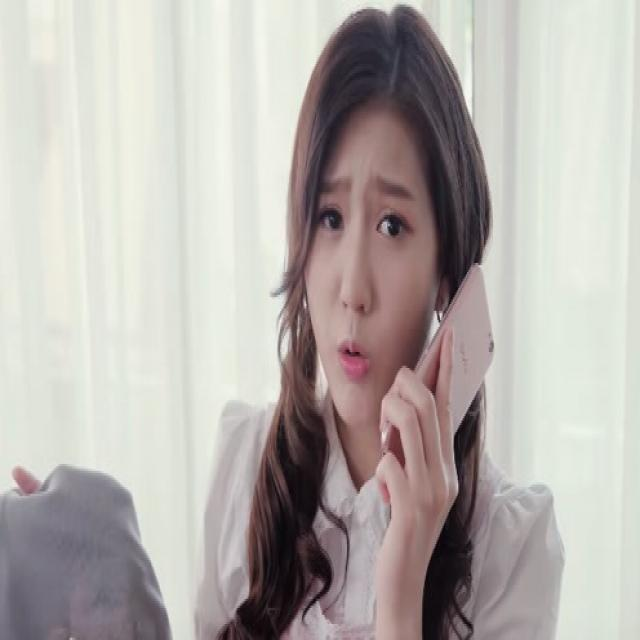phone: (373, 233, 513, 546)
